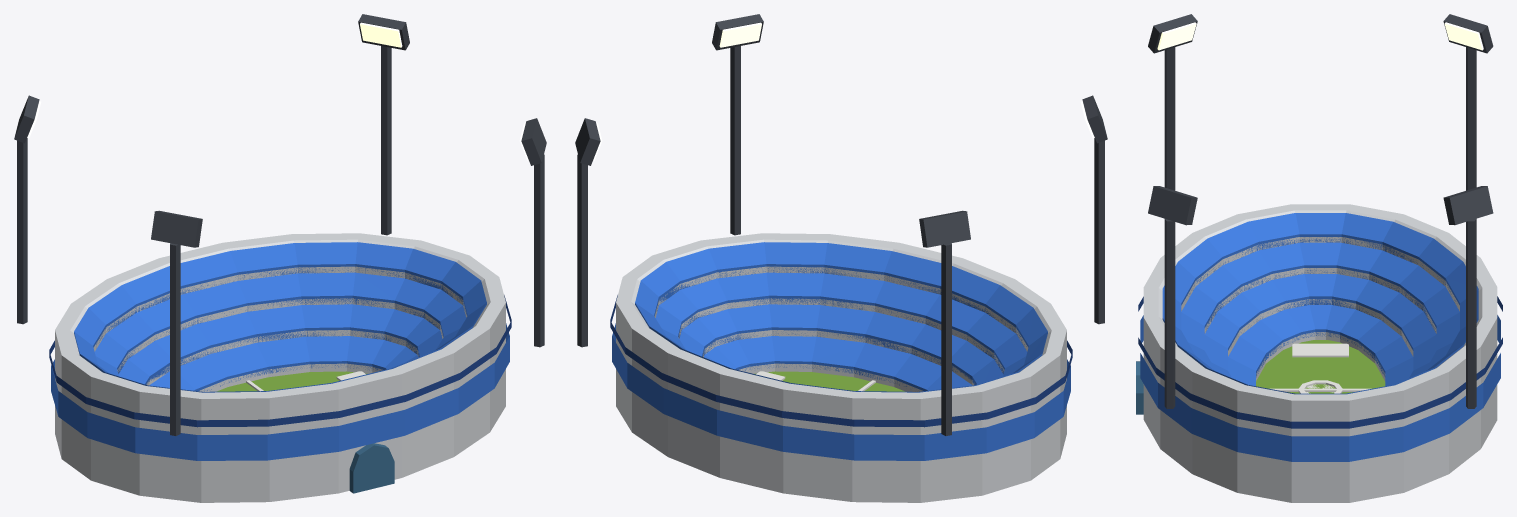
File: bld_stadium.glb
3 views of the same model, side by side, from view 1: azimuth 30°, elevation 25°; view 2: azimuth 150°, elevation 25°; view 3: azimuth 270°, elevation 25° (orthographic).
Visible parts, largest first — view 1: bld_stadium; view 2: bld_stadium; view 3: bld_stadium.
Boxes of the visible parts, left/top/right/bottom form: bld_stadium: left=14, top=14, right=546, bottom=502; bld_stadium: left=575, top=14, right=1107, bottom=502; bld_stadium: left=1136, top=14, right=1502, bottom=502.
Bounding box in the file's own units: 0.5057 × 0.3502 × 0.3896.
